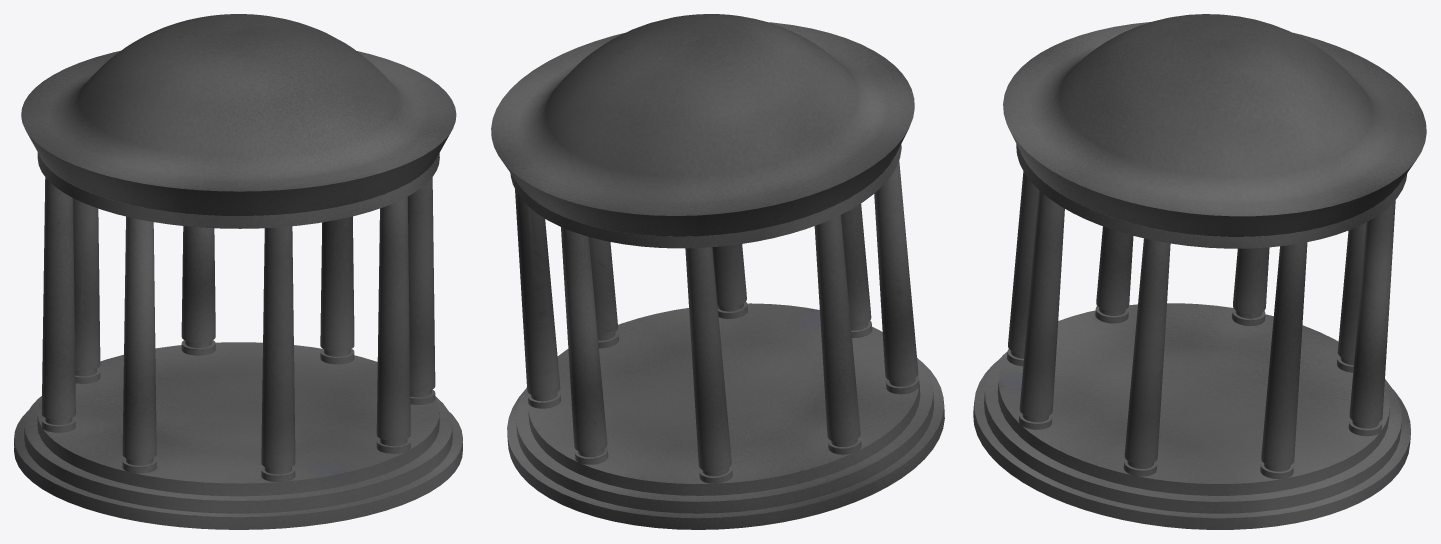
3 views of the same model, side by side, from view 1: azimuth 30°, elevation 25°; view 2: azimuth 150°, elevation 25°; view 3: azimuth 270°, elevation 25° (orthographic). The views are drawn at different scales.
Visible parts, largest first — view 1: node_id5_1; view 2: node_id5_1; view 3: node_id5_1.
Part boxes in pixels (x1=…): node_id5_1: x1=14, y1=14, x2=462, y2=529; node_id5_1: x1=491, y1=14, x2=944, y2=529; node_id5_1: x1=973, y1=14, x2=1426, y2=529.
Size of the model in its own units: 0.5196 by 0.5322 by 0.5299.
Materials: 1 (1 with a texture image).
